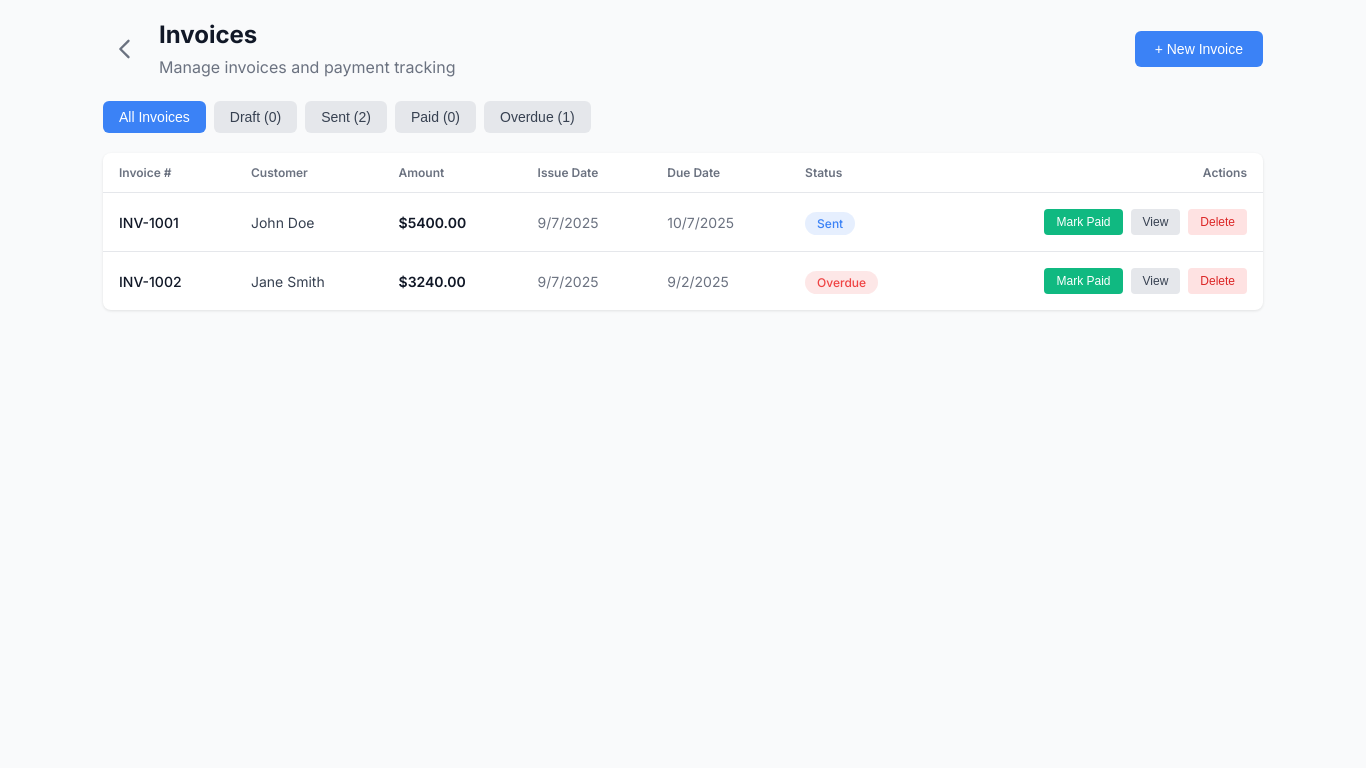
Scenario: Invoices › opens new invoice modal when button clicked
The image size is (1366, 768).
Step 1. Click the button "+ New Invoice" → [1199, 48], box x1=1135 y1=30 x2=1263 y2=66
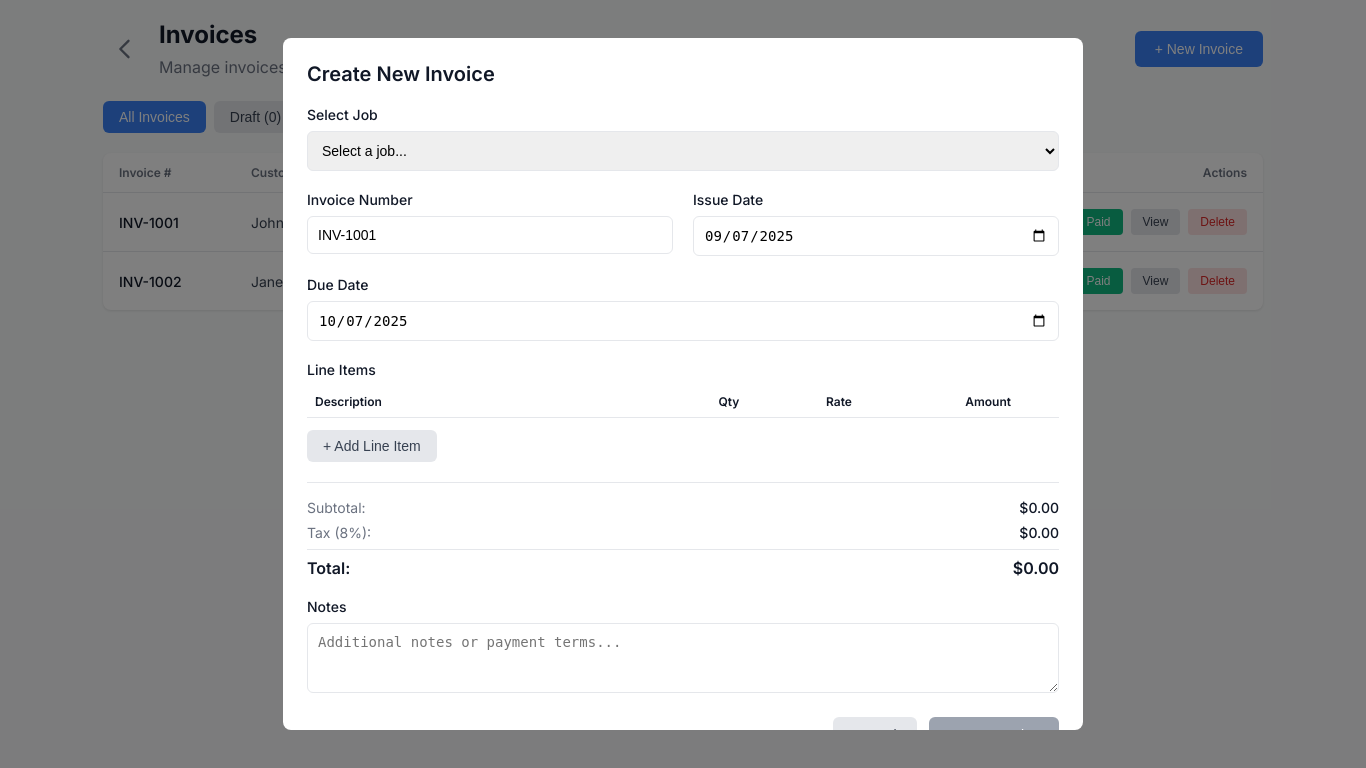
Expected: the heading "Create New Invoice" is shown, x1=307 y1=62 x2=495 y2=86
